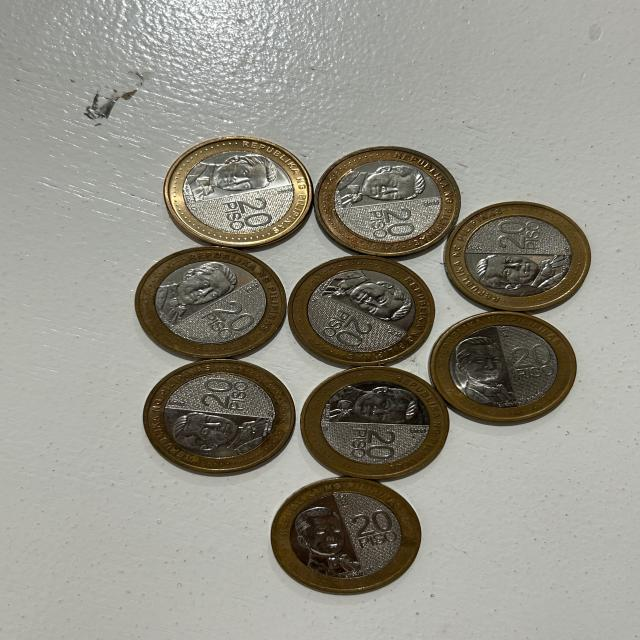20_New_Front: (348, 498, 398, 556), (187, 371, 252, 413), (321, 305, 382, 349), (196, 299, 257, 342), (360, 205, 425, 245), (336, 422, 397, 464), (507, 338, 556, 390), (488, 216, 553, 255), (212, 194, 273, 228)
